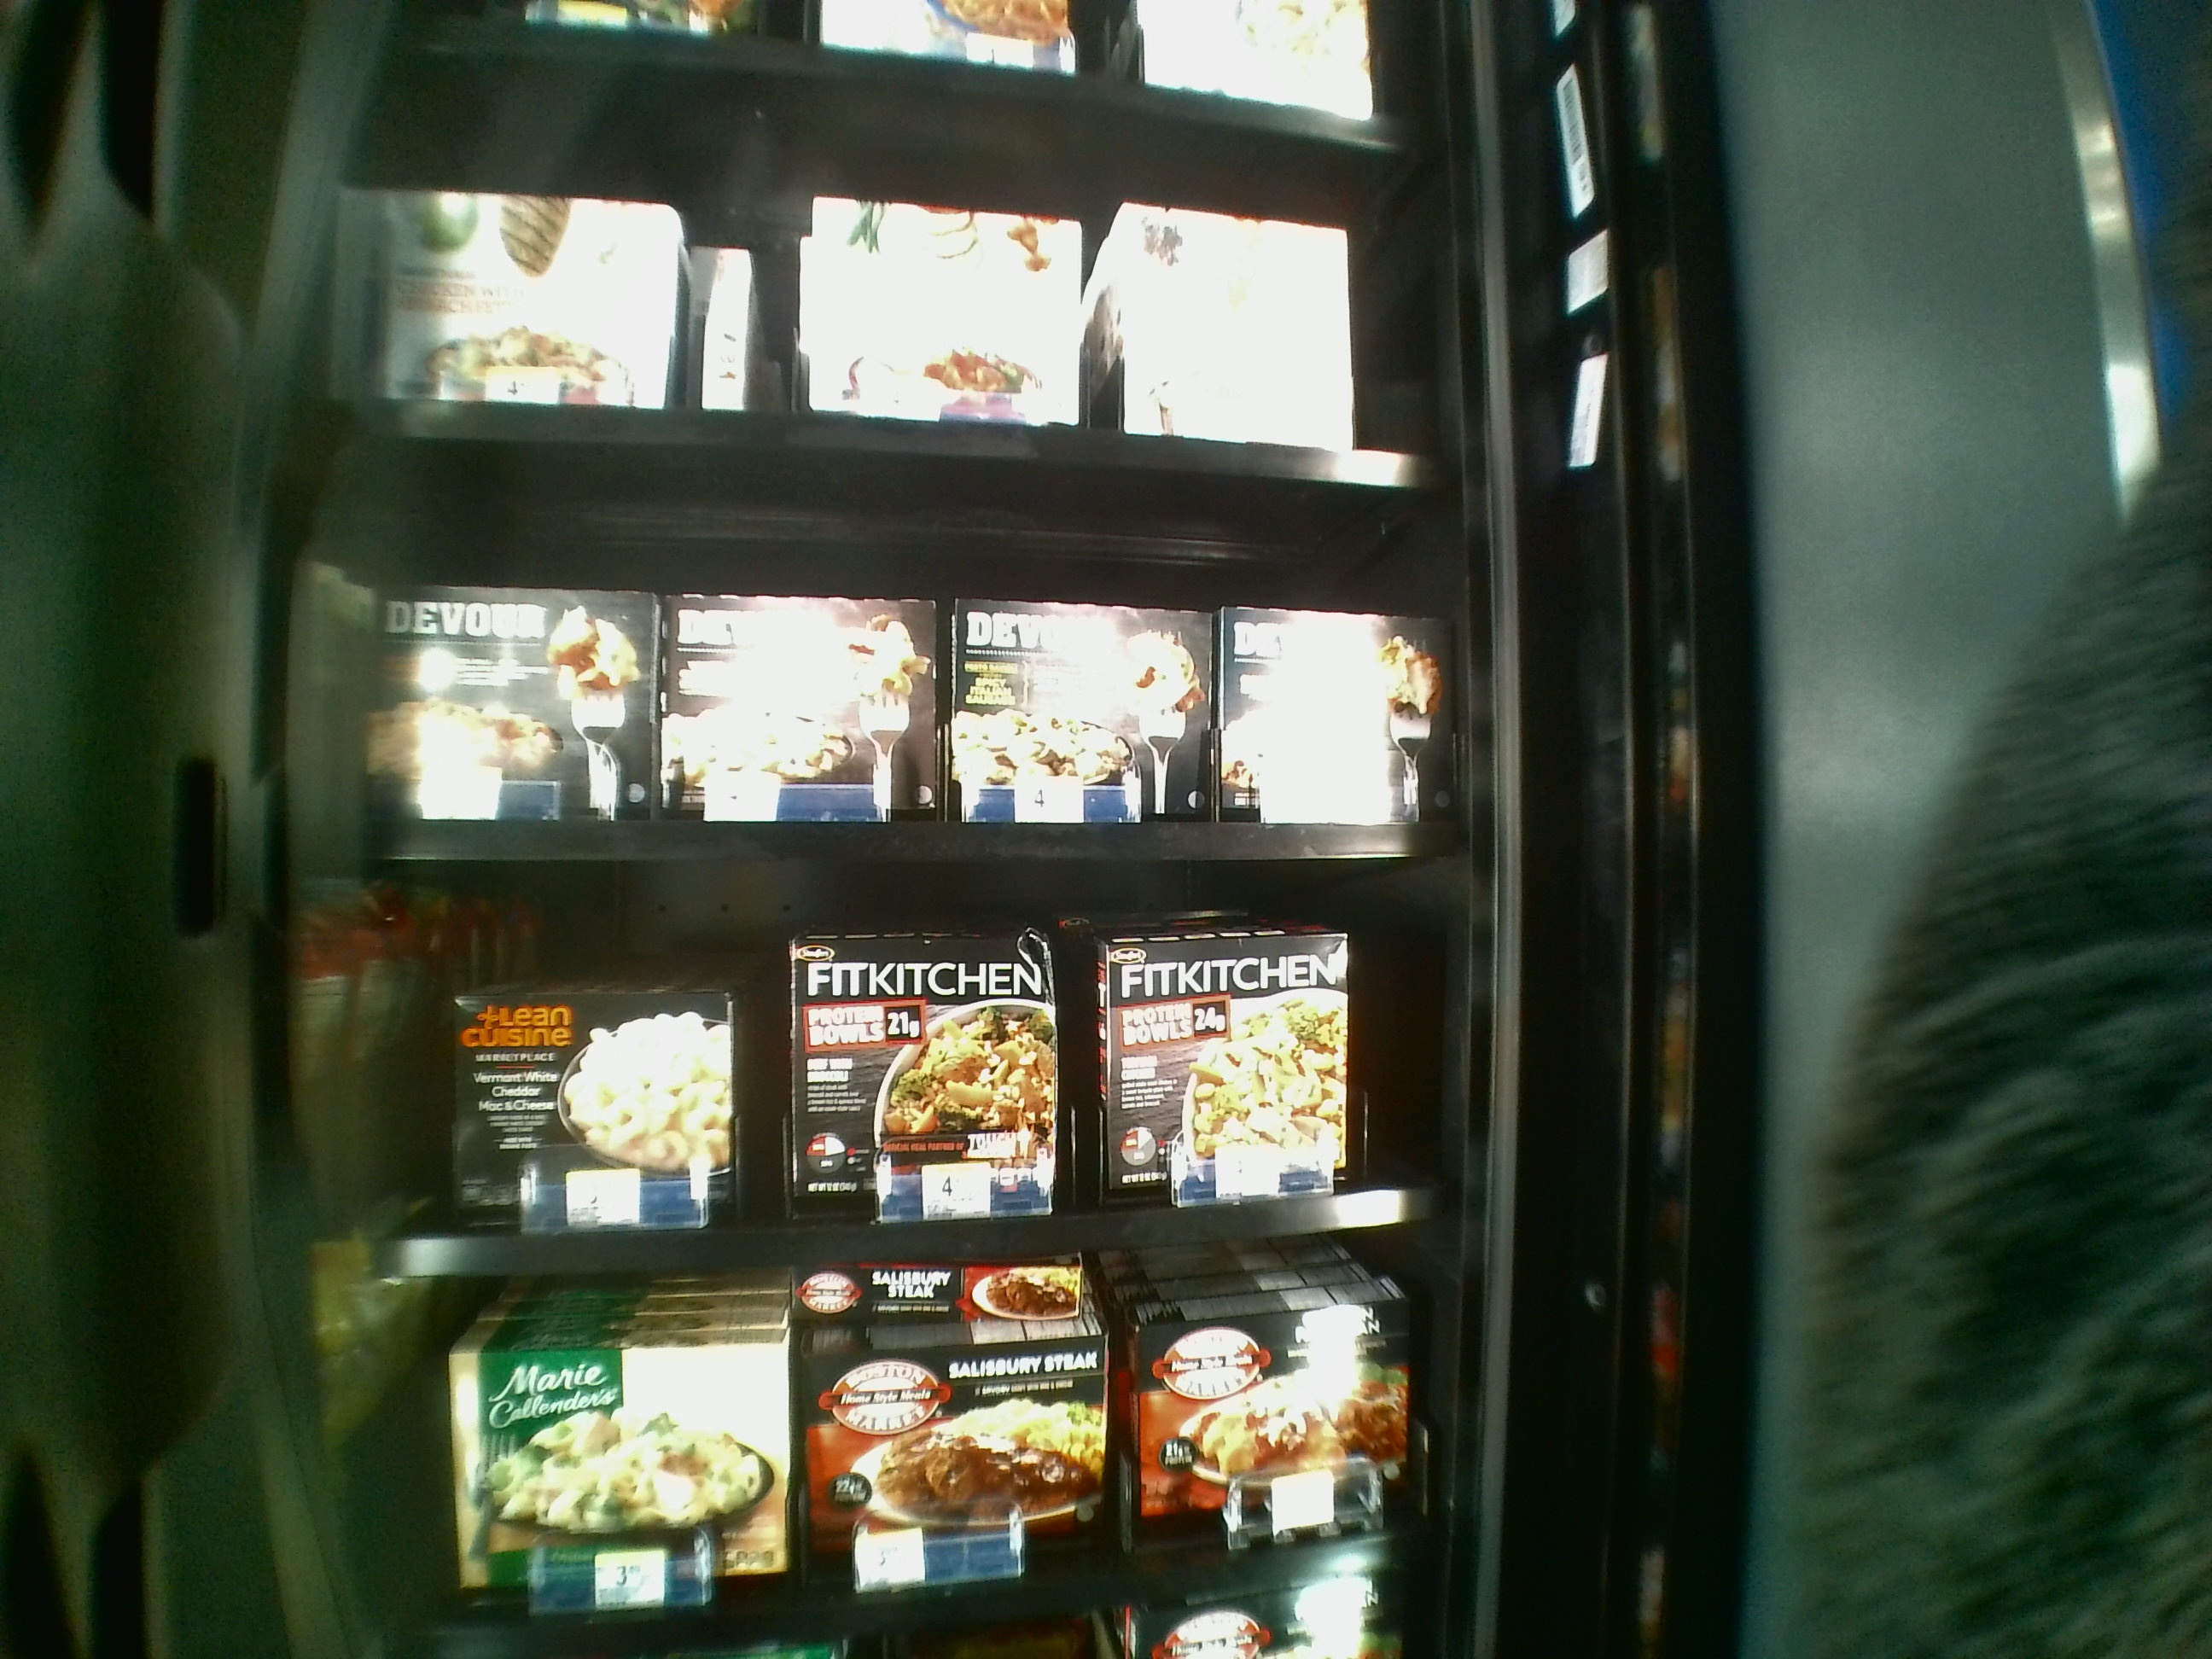shelf: (359, 427, 1460, 859), (359, 871, 1458, 1270)
